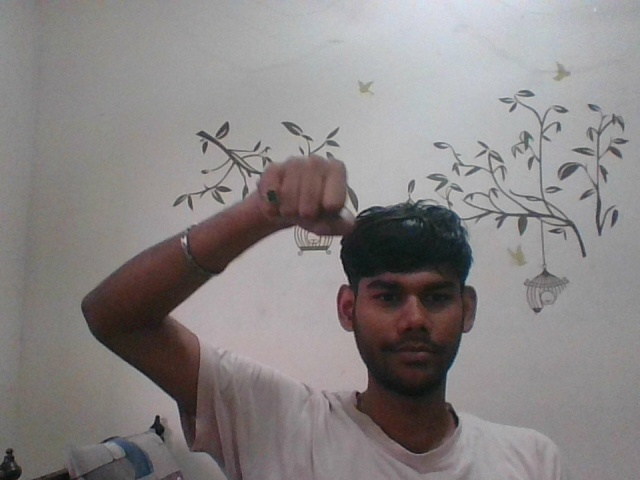Thank You: (242, 147, 360, 246)
